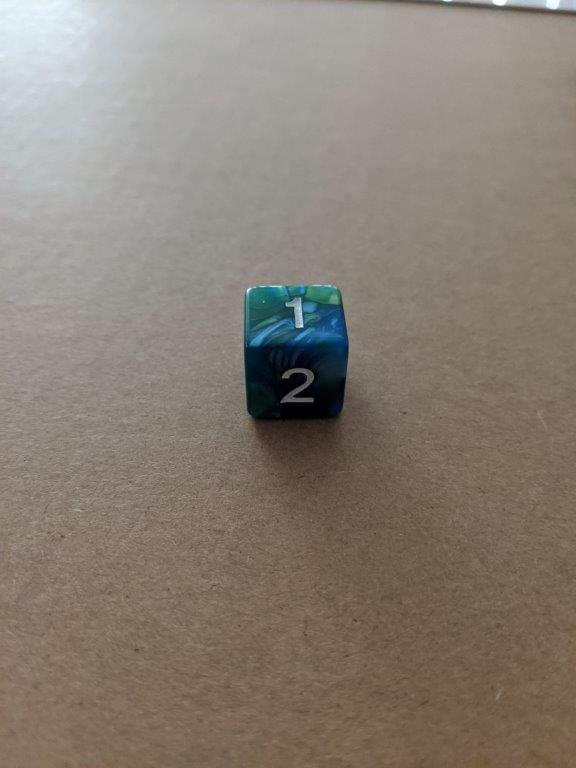d6-1: (242, 283, 350, 422)
